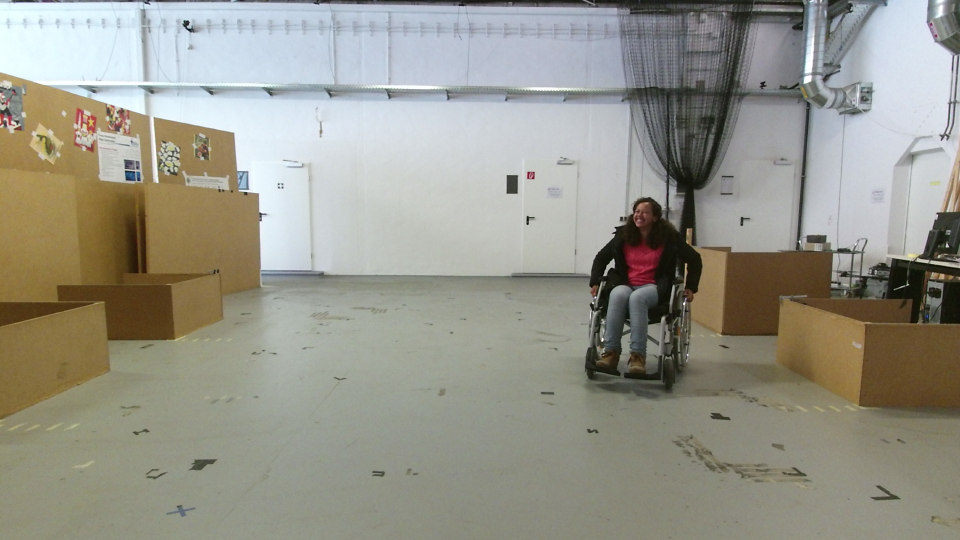wheelchair: (580, 192, 704, 395)
